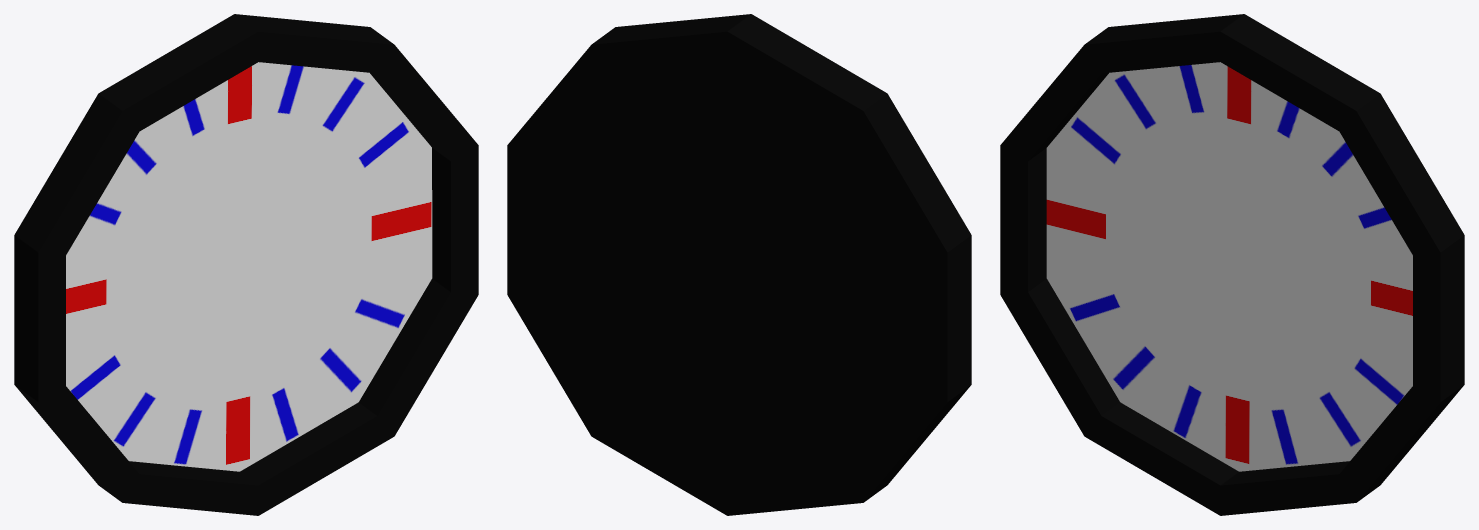
Rendered from Dial.fbx.
3 views of the same model, side by side, from view 1: azimuth 30°, elevation 25°; view 2: azimuth 150°, elevation 25°; view 3: azimuth 330°, elevation 25° (orthographic).
Visible parts, largest first — view 1: Dial; view 2: Dial; view 3: Dial.
Boxes of the visible parts, x1,y1,x2,y2 form: Dial: (14,14,478,515); Dial: (507,14,971,515); Dial: (1000,14,1464,515).
Size of the model in its own units: 116 by 122 by 10.96.
